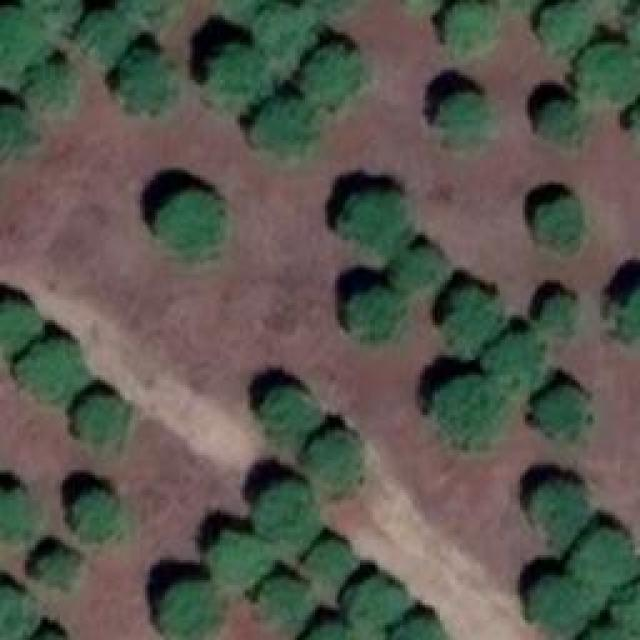Tree: (518, 570, 602, 638), (428, 373, 503, 446), (198, 35, 266, 106), (340, 188, 410, 256), (305, 415, 367, 490), (10, 338, 81, 403), (153, 575, 225, 637), (250, 88, 316, 155), (580, 30, 637, 106), (528, 475, 591, 543), (430, 83, 496, 147), (208, 523, 273, 587), (115, 43, 177, 110), (253, 484, 317, 546), (295, 43, 360, 104), (573, 530, 636, 590), (528, 195, 588, 257), (158, 198, 224, 254), (75, 10, 135, 71), (441, 283, 498, 347), (258, 380, 312, 447), (338, 282, 398, 342), (252, 0, 308, 64), (253, 570, 317, 626), (0, 2, 41, 88), (538, 380, 591, 445), (345, 578, 405, 634), (533, 0, 598, 51), (490, 328, 544, 388), (73, 393, 130, 449), (67, 488, 124, 543), (382, 243, 438, 298), (441, 0, 498, 54), (303, 533, 355, 585), (602, 572, 640, 640), (540, 285, 582, 342), (28, 60, 74, 111), (33, 548, 84, 594), (540, 93, 585, 145), (0, 293, 34, 361), (385, 603, 445, 640), (602, 275, 640, 333), (0, 488, 32, 552), (0, 582, 34, 640), (290, 607, 347, 640), (0, 103, 28, 161)
